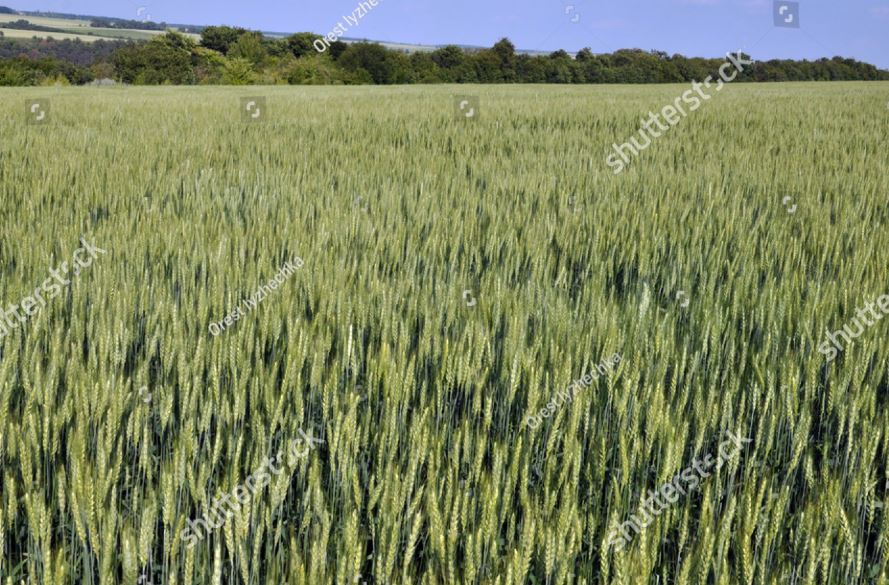Wheat: (113, 293, 526, 581)
